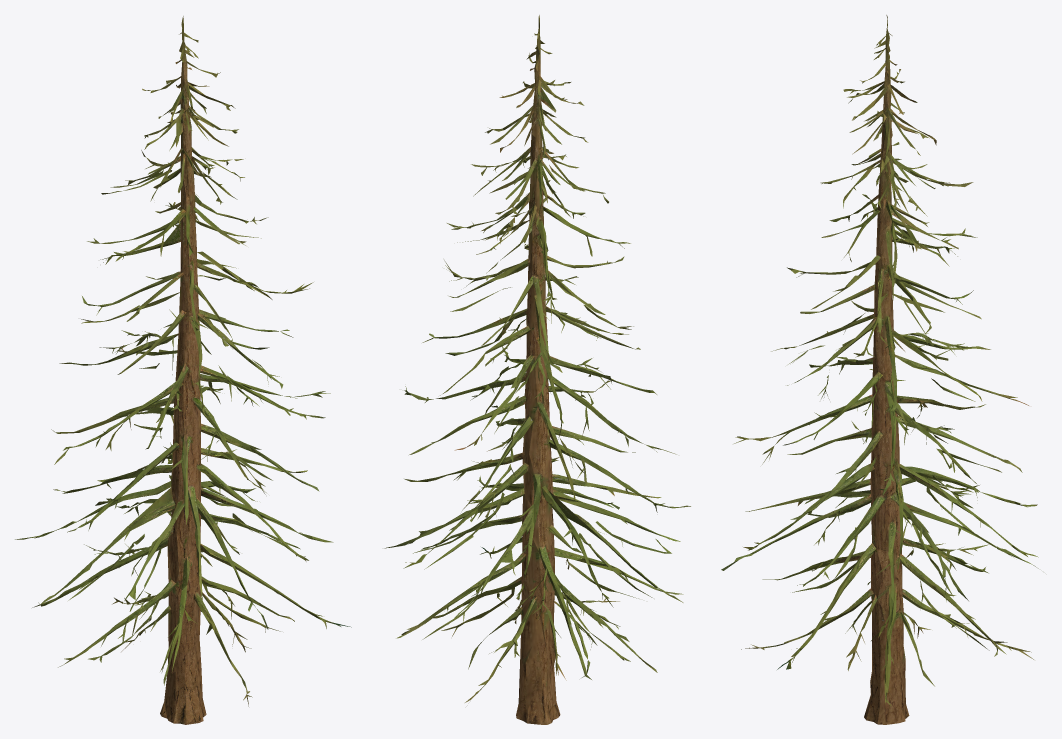
Rendered from pine_a.glb.
3 views of the same model, side by side, from view 1: azimuth 30°, elevation 25°; view 2: azimuth 150°, elevation 25°; view 3: azimuth 270°, elevation 25° (orthographic).
Size of the model in its own units: 0.8232 by 1.9 by 0.8013.
Materials: 1 (1 with a texture image).
